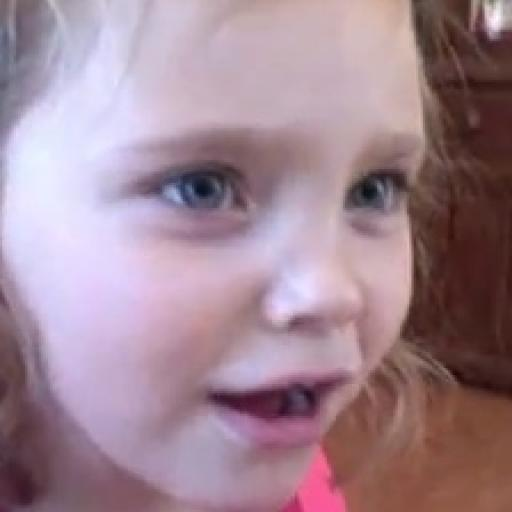Autism: (10, 0, 448, 512)
